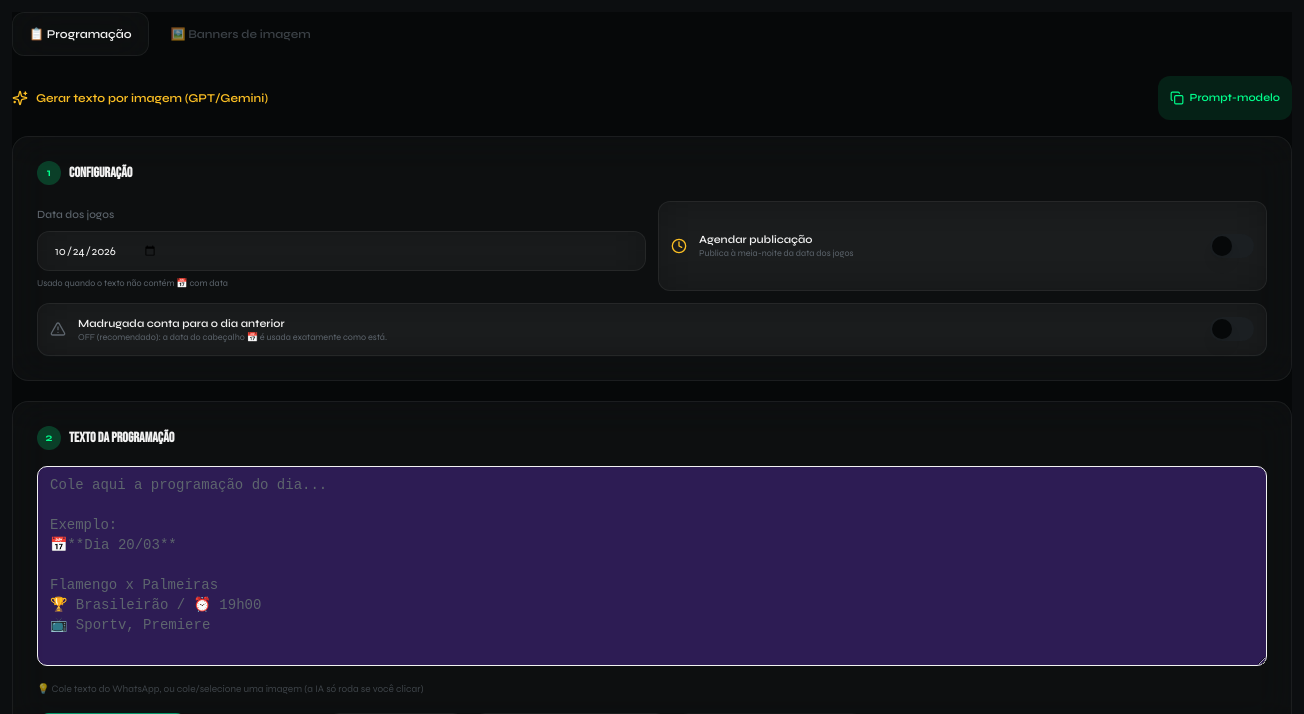
Test: AdminProgramacao — sections & categories › renders all category pills
The image size is (1304, 714).
What coordinates should you click on to do the following:
click the tab "🖼️ Banners de imagem"
I would click on:
 (241, 34)
Its box is [154, 12, 327, 56].
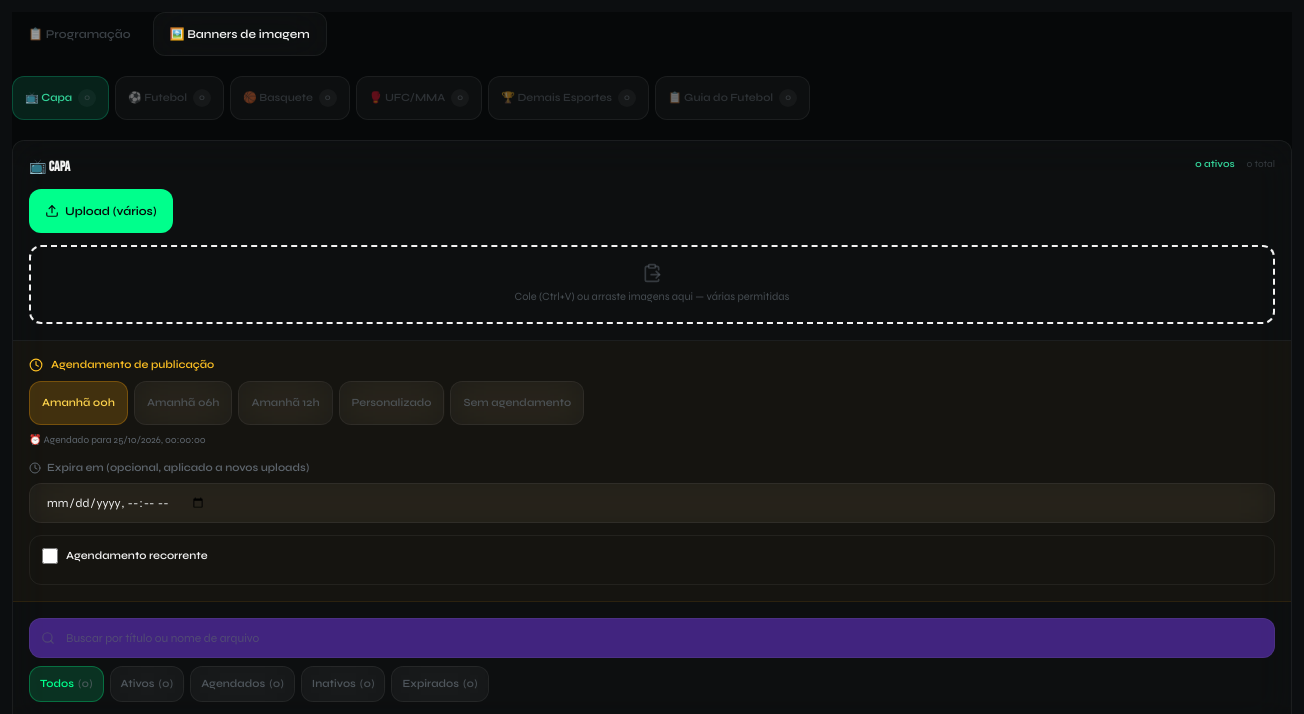
Result: the text "⚽ Futebol" is shown at [128, 90, 187, 106]
Result: the text "🏀 Basquete" is shown at [243, 90, 313, 106]
Result: the text "🥊 UFC/MMA" is shown at [369, 90, 445, 106]
